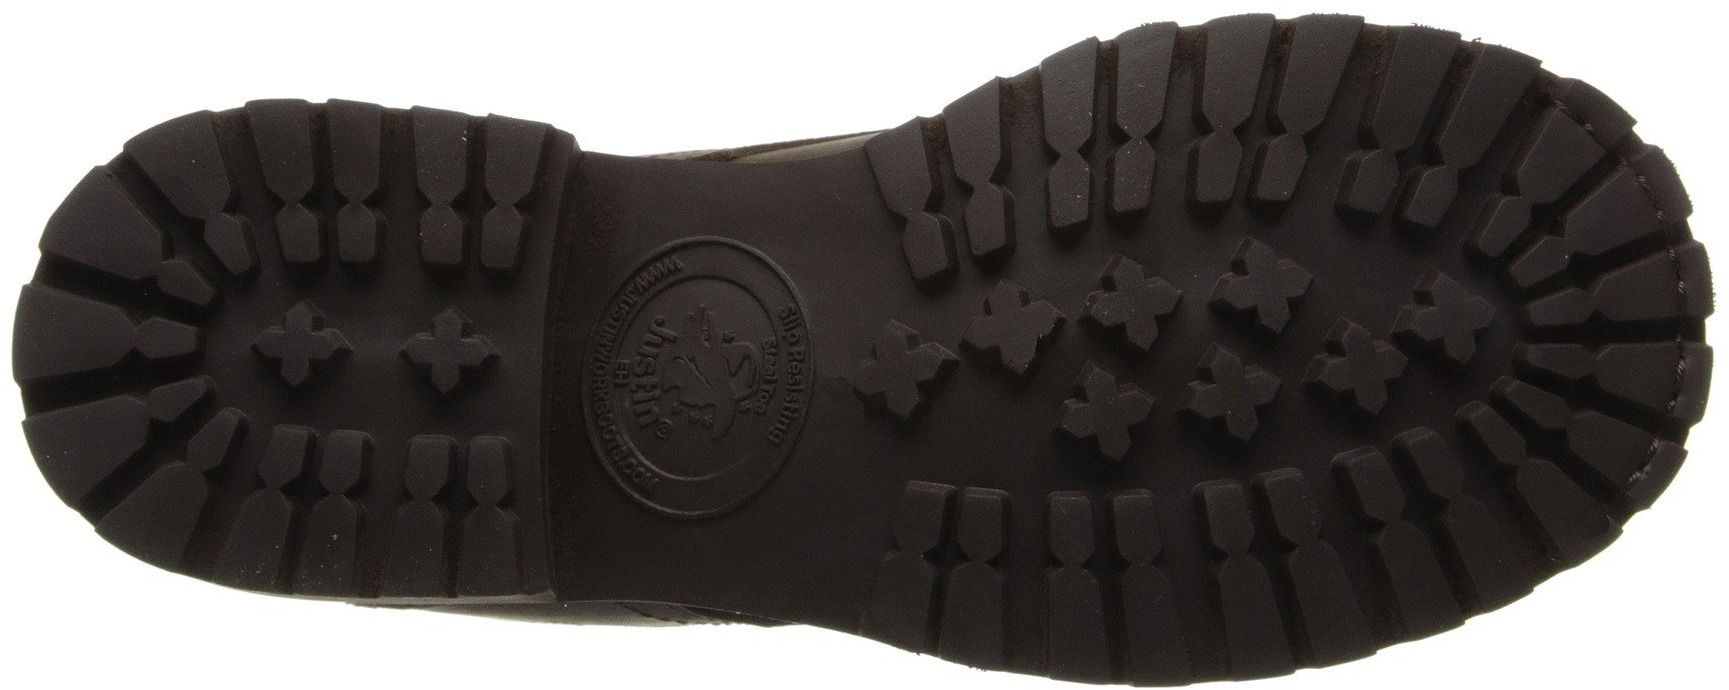bowtie: (1174, 10, 1366, 207), (1519, 242, 1722, 425), (1025, 482, 1222, 666), (1241, 459, 1429, 644), (34, 213, 217, 389), (356, 103, 533, 274), (278, 421, 431, 593), (1025, 84, 1170, 235)
star: (1164, 236, 1376, 430), (982, 274, 1161, 439), (844, 305, 966, 450), (251, 293, 354, 393), (398, 298, 496, 393)
text: (622, 301, 767, 452)
